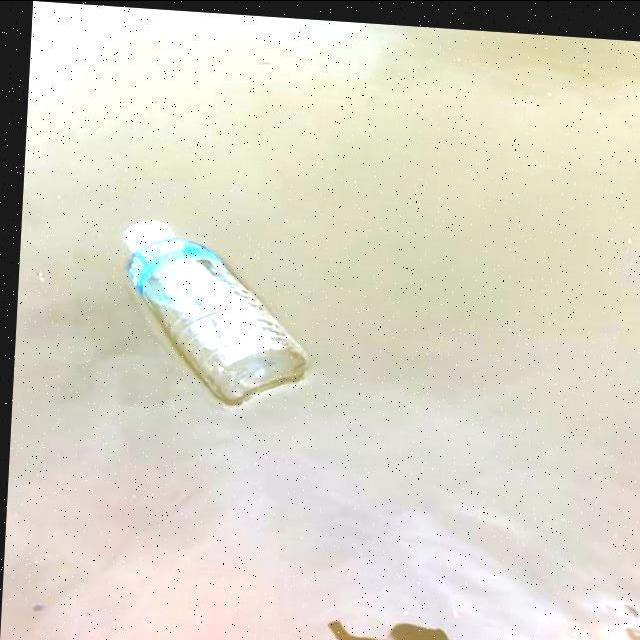Bottle: (114, 202, 316, 413)
